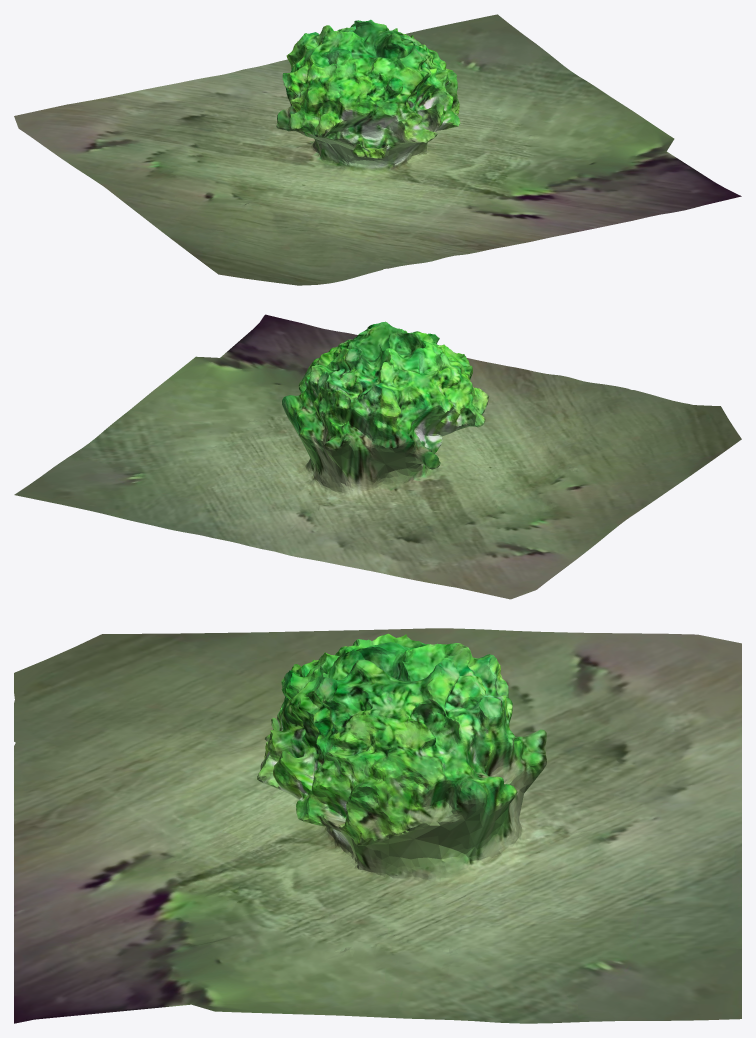
File: asset.glb
The picture shows the model from 3 angles, top to bottom: view 1: azimuth 30°, elevation 25°; view 2: azimuth 150°, elevation 25°; view 3: azimuth 270°, elevation 25°; orthographic projection. The views are drawn at different scales.
Size of the model in its own units: 1.83 by 0.469 by 1.57.
Materials: 1 (1 with a texture image).
